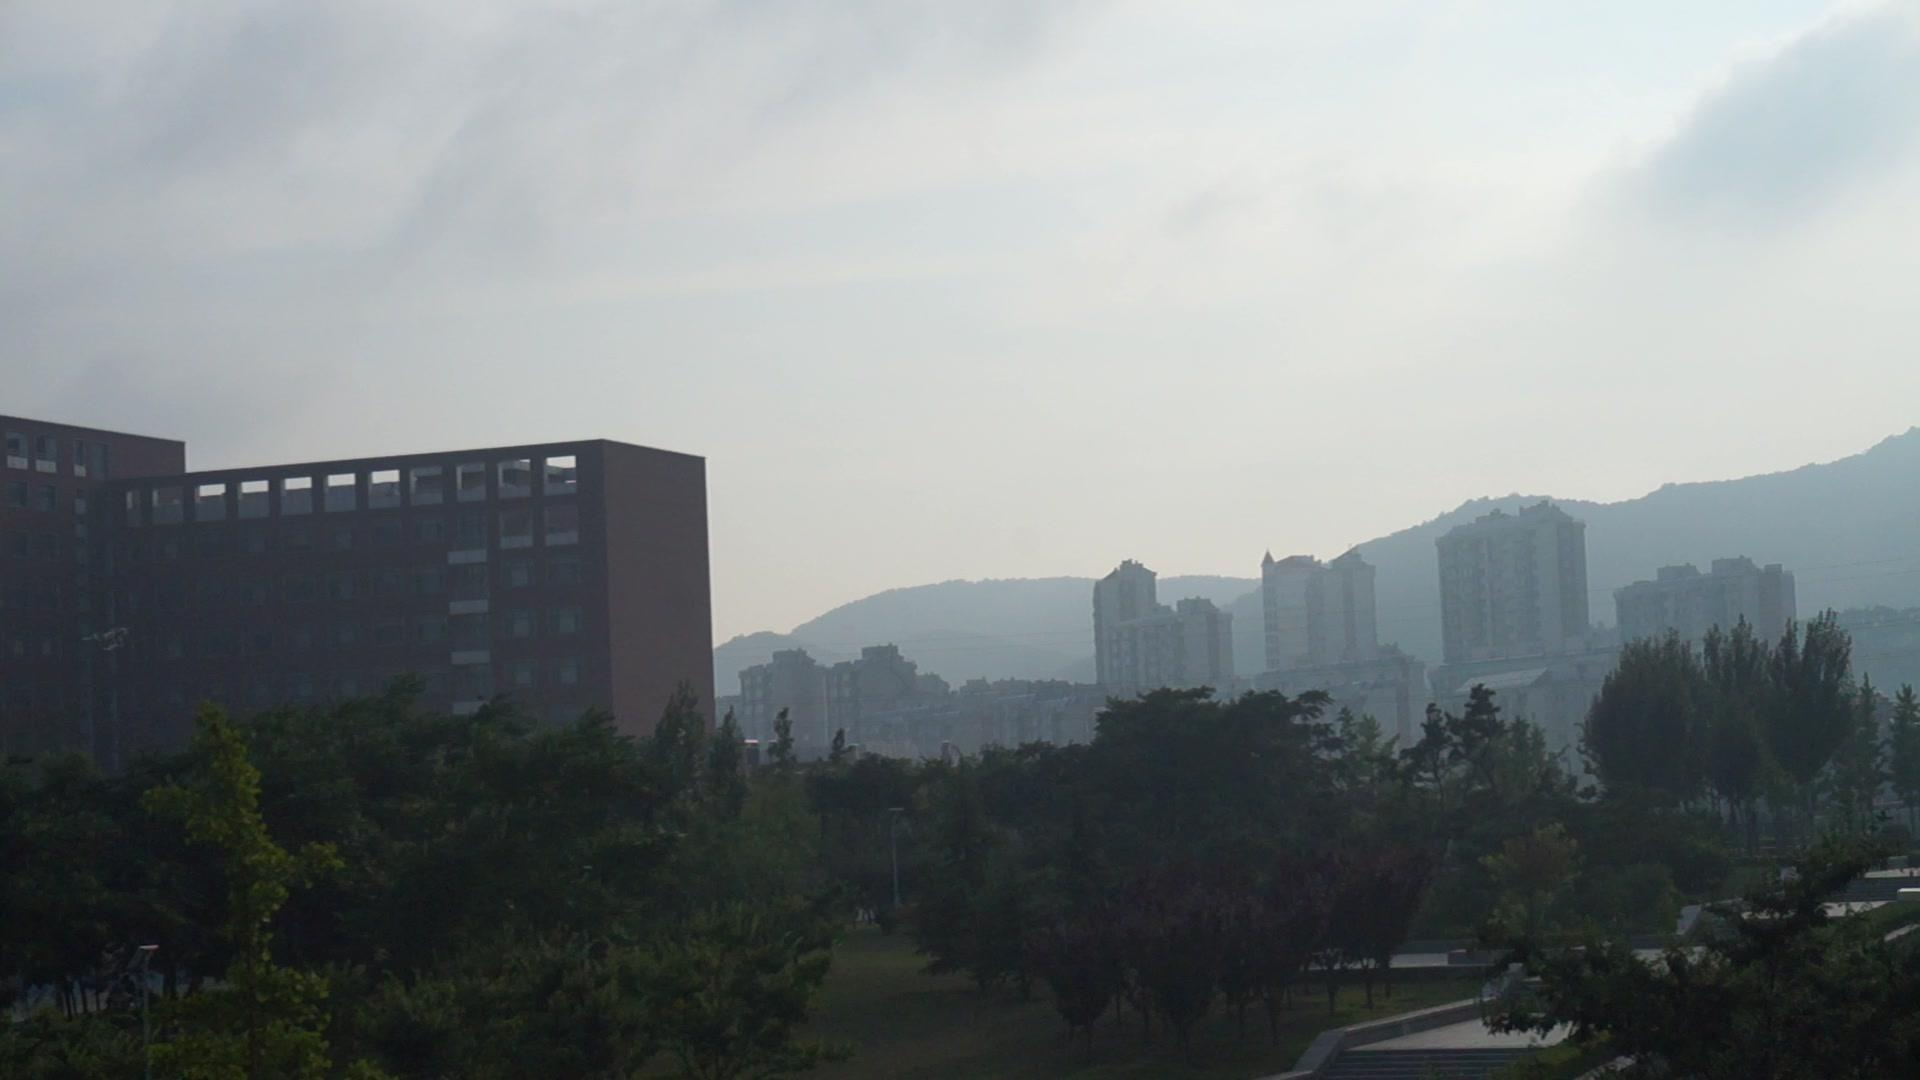UAV: (80, 626, 131, 651)
